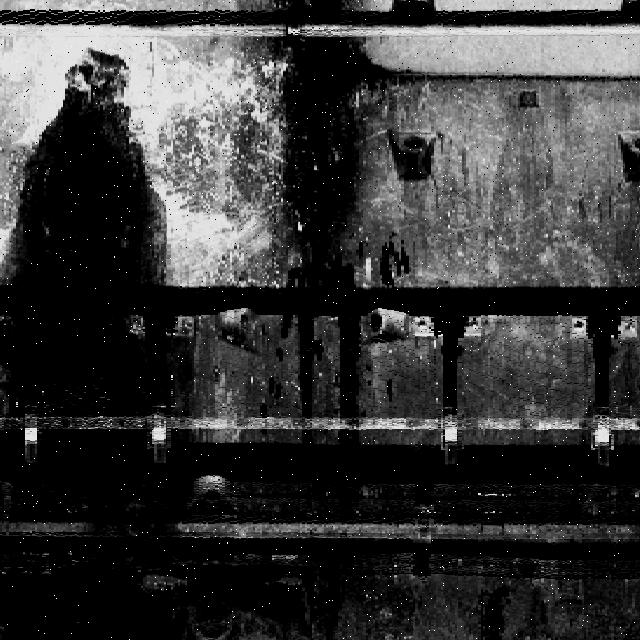leakage: (0, 42, 208, 627), (260, 0, 393, 281), (282, 309, 317, 448), (333, 299, 365, 445)
